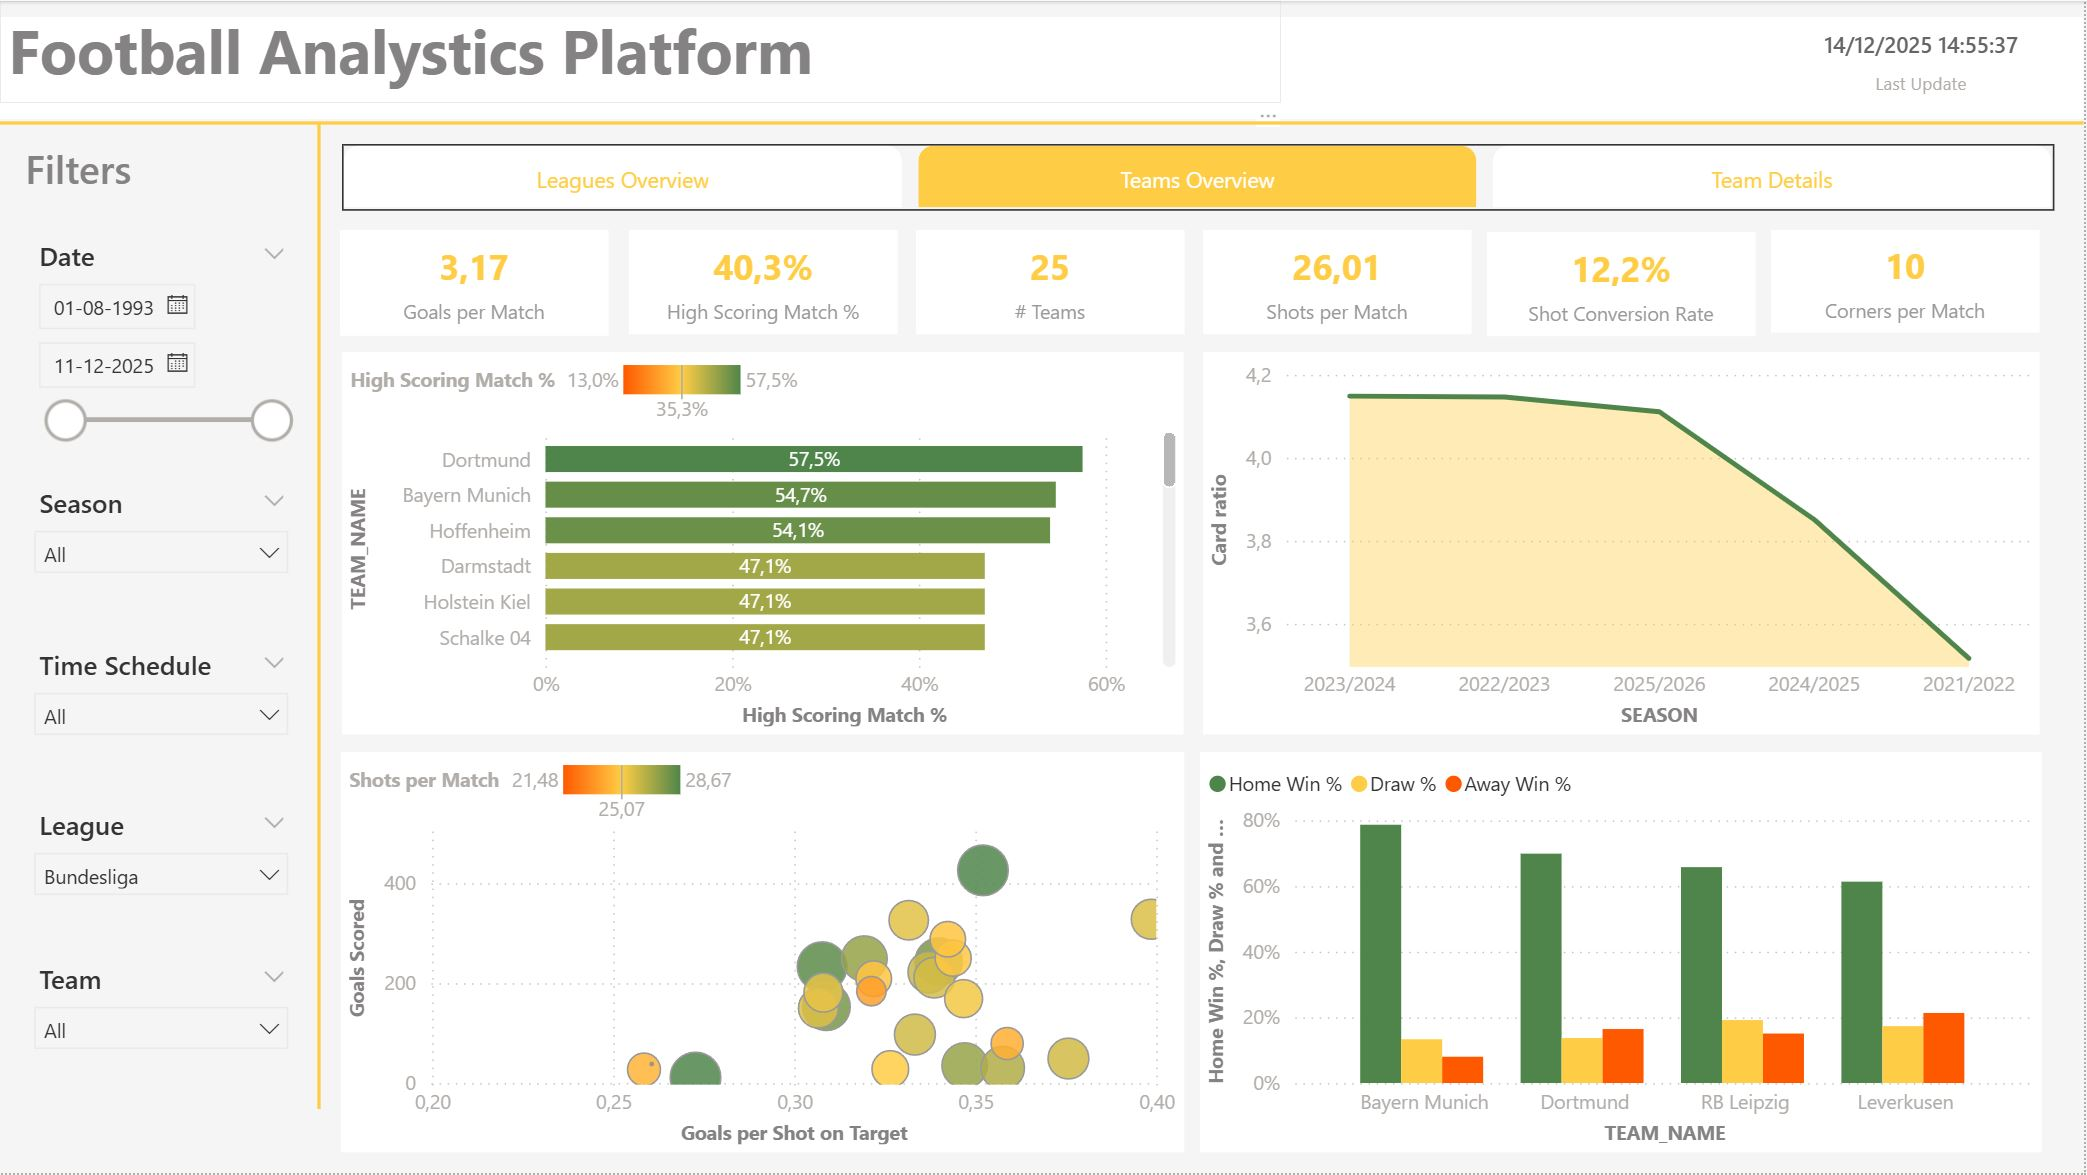

The page's visual inventory and layout, read from the dashboard file:
{"tool":"powerbi","page":{"name":"Teams Overview","canvas":[1280,720],"ordinal":1},"visuals":[{"type":"shape","box":[0,10,1280.3,62.7],"z":0},{"type":"slicer","fields":{"Values":["dim_date.SEASON"]},"box":[10.9,292.7,176.4,90],"z":1000},{"type":"slicer","title":"League","fields":{"Values":["dim_leagues.LEAGUE_NAME"]},"box":[10.9,490,176.4,89.1],"z":2000},{"type":"slicer","title":"League","fields":{"Values":["dim_teams.TEAM_NAME"]},"box":[11.1,584.8,176.3,90.9],"z":3000},{"type":"card","fields":{"Values":["MainMeasures.High Scoring Match %"]},"box":[386.4,140.9,164.5,63.6],"z":4000},{"type":"card","fields":{"Values":["MainMeasures.Shots per Match"]},"box":[739.1,140.9,164.5,63.6],"z":5000},{"type":"card","fields":{"Values":["MainMeasures.Goals per Match"]},"box":[209.1,140.9,164.5,64.5],"z":6000},{"type":"card","fields":{"Values":["MainMeasures.# teams"]},"box":[562.7,140.9,164.5,63.6],"z":7000},{"type":"card","fields":{"Values":["MainMeasures.Shot Conversion Rate"]},"box":[913.6,141.8,164.5,63.6],"z":8000},{"type":"barChart","fields":{"Y":["MainMeasures.High Scoring Match %"],"Category":["dim_teams.TEAM_NAME"]},"box":[210,215.5,517.3,235.5],"z":9000},{"type":"areaChart","fields":{"Category":["dim_date.SEASON"],"Y":["MainMeasures.Card ratio"]},"box":[739.1,215.5,513.6,235.5],"z":10000},{"type":"scatterChart","title":"Shot CR, Win Rate % & Goals","fields":{"Y":["MainMeasures.Goals Scored"],"Category":["dim_teams.TEAM_NAME"],"X":["MainMeasures.Goals per Shot on Target"],"Size":["MainMeasures.Shots per Match"]},"box":[209.5,461.4,517.9,246.3],"z":11000},{"type":"clusteredColumnChart","fields":{"Category":["dim_teams.TEAM_NAME"],"Y":["MainMeasures.Home Win %","MainMeasures.Draw %","MainMeasures.Away Win %"]},"box":[737.2,461.4,517.3,246.3],"z":12000},{"type":"slicer","fields":{"Values":["dim_date.DATE_VALUE"]},"box":[10.9,140.9,176.4,151.8],"z":13000},{"type":"card","fields":{"Values":["MainMeasures.Corners per Match"]},"box":[1088.2,140.9,164.5,62.7],"z":14000},{"type":"slicer","fields":{"Values":["fact_matches.MATCH_TIME"]},"box":[10.9,391.8,176.4,90],"z":15000},{"type":"pageNavigator","box":[210.1,87.8,1052.4,40.5],"z":16000},{"type":"textbox","box":[0,0,787,62.7],"z":17000},{"type":"card","fields":{"Values":["MainMeasures.Last Update"]},"box":[1103.3,10.4,153.6,52.2],"z":18000},{"type":"shape","box":[0,37.5,1280.3,74.9],"z":19000},{"type":"shape","box":[181.8,74.9,28.3,605.7],"z":20000},{"type":"textbox","box":[10.4,81.7,193.5,52.8],"z":21000}]}

Visuals, with their boxes in screenshot pixels (x1, y1, x2, y2), scaled from the page's 1280x720 canvas onto the 2087x1175 screenshot:
shape: [x1=0, y1=16, x2=2086, y2=119]
slicer - dim_date.SEASON: [x1=18, y1=478, x2=305, y2=625]
"League" slicer: [x1=18, y1=800, x2=305, y2=945]
"League" slicer: [x1=18, y1=954, x2=306, y2=1103]
card - MainMeasures.High Scoring Match %: [x1=630, y1=230, x2=898, y2=334]
card - MainMeasures.Shots per Match: [x1=1205, y1=230, x2=1473, y2=334]
card - MainMeasures.Goals per Match: [x1=341, y1=230, x2=609, y2=335]
card - MainMeasures.# teams: [x1=917, y1=230, x2=1186, y2=334]
card - MainMeasures.Shot Conversion Rate: [x1=1490, y1=231, x2=1758, y2=335]
barChart - MainMeasures.High Scoring Match % x dim_teams.TEAM_NAME: [x1=342, y1=352, x2=1186, y2=736]
areaChart - dim_date.SEASON x MainMeasures.Card ratio: [x1=1205, y1=352, x2=2042, y2=736]
"Shot CR, Win Rate % & Goals" scatterChart: [x1=342, y1=753, x2=1186, y2=1155]
clusteredColumnChart - dim_teams.TEAM_NAME x MainMeasures.Home Win %: [x1=1202, y1=753, x2=2045, y2=1155]
slicer - dim_date.DATE_VALUE: [x1=18, y1=230, x2=305, y2=478]
card - MainMeasures.Corners per Match: [x1=1774, y1=230, x2=2042, y2=332]
slicer - fact_matches.MATCH_TIME: [x1=18, y1=639, x2=305, y2=786]
pageNavigator: [x1=343, y1=143, x2=2058, y2=209]
textbox: [x1=0, y1=0, x2=1283, y2=102]
card - MainMeasures.Last Update: [x1=1799, y1=17, x2=2049, y2=102]
shape: [x1=0, y1=61, x2=2086, y2=183]
shape: [x1=296, y1=122, x2=343, y2=1111]
textbox: [x1=17, y1=133, x2=332, y2=219]
